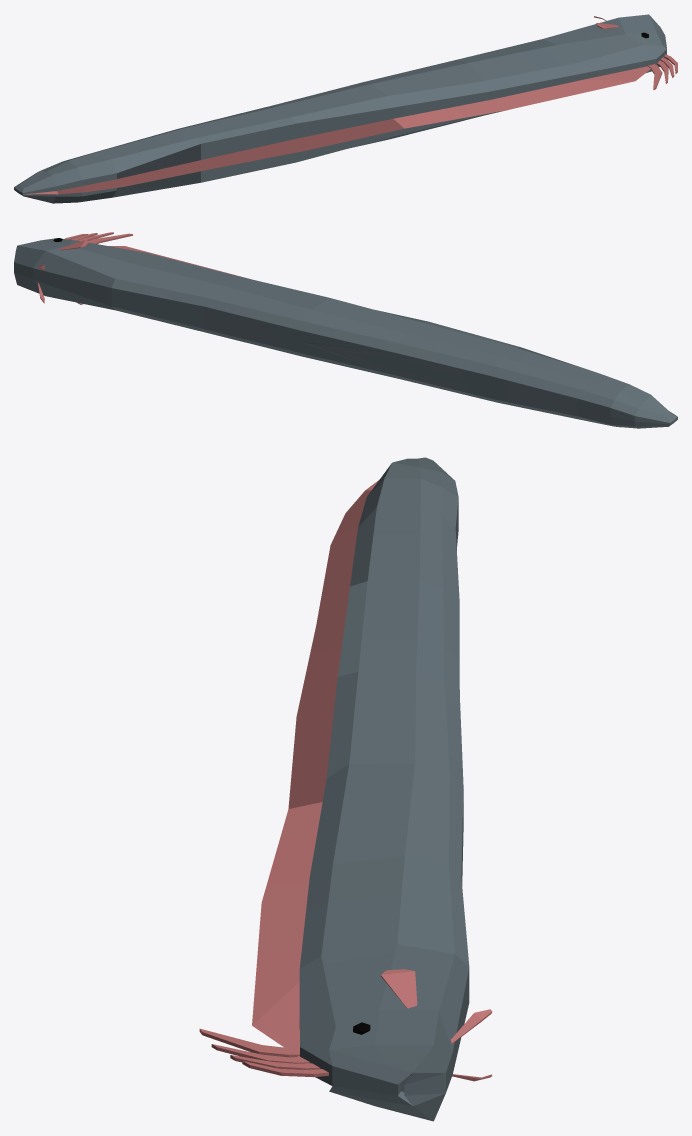
Rendered from Oarfish.glb.
3 views of the same model, one above another, from view 1: azimuth 30°, elevation 25°; view 2: azimuth 150°, elevation 25°; view 3: azimuth 270°, elevation 25° (orthographic). The views are drawn at different scales.
Visible parts, largest first — view 1: Oarfish; view 2: Oarfish; view 3: Oarfish.
Boxes of the visible parts, x1,y1,x2,y2 form: Oarfish: [14, 14, 677, 203]; Oarfish: [14, 232, 677, 428]; Oarfish: [199, 457, 492, 1121].
Size of the model in its own units: 1.6 by 0.1338 by 0.3151.
Materials: 1 (1 with a texture image).
